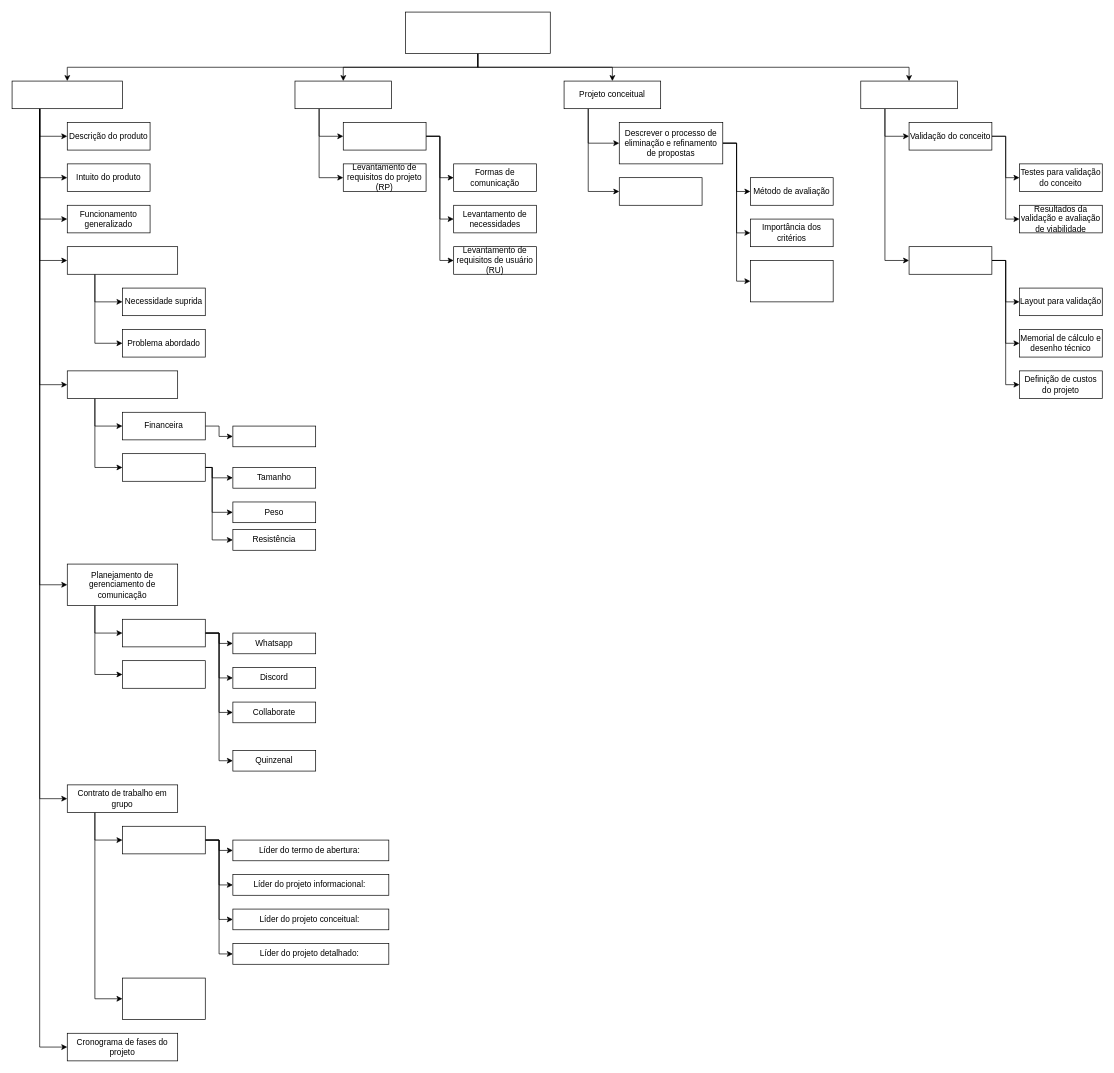
The diagram is 1114 pixels wide and 1073 high, and some of its shapes have lost their labels. Here are the shapes that lost their labels. From the top down, the centre of each, then its label:
(477,32): Dispositivo auxiliar de porta-malas para pessoas com PCD
(66,94): Termo de abertura
(343,94): Projeto informacional
(908,94): Projeto detalhado
(384,136): Definição de stakeholders
(660,191): Descrição da proposta escolhida
(122,260): Jutificativa e contexto
(950,260): Documentação técnica
(791,281): Descrição de benefícios e malefícios de propostas
(122,384): Restrições do projeto
(274,436): Custo
(163,467): Física
(163,633): Plataforma
(163,674): Cronograma de reuniões
(163,840): Atribuições
(163,998): Punição por falha na liderança do estágio
